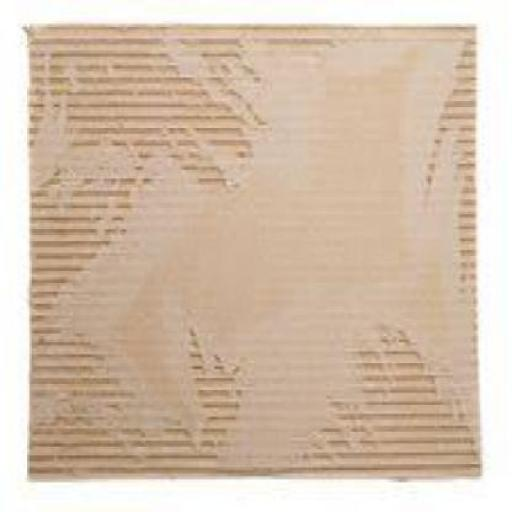cardboard: (22, 20, 480, 480)
